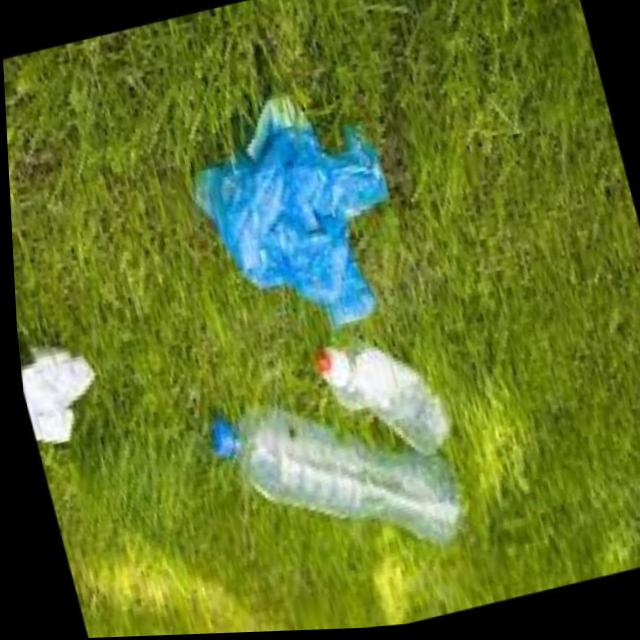food: (13, 316, 107, 471)
leaf: (165, 356, 502, 613), (298, 307, 461, 490)
metal: (179, 115, 446, 371)
